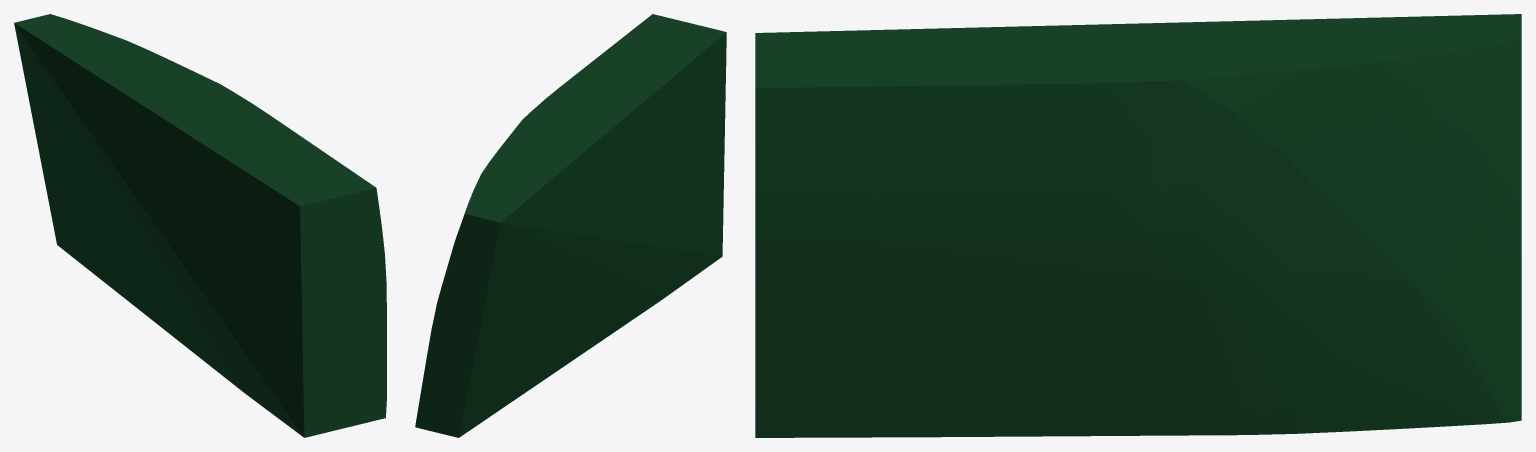
The model's file is right-shoulder-pitch-0_part_160.obj.
3 renders of one model, left to right at view 1: azimuth 30°, elevation 25°; view 2: azimuth 150°, elevation 25°; view 3: azimuth 270°, elevation 25°, orthographic. The views are drawn at different scales.
Bounding box in the file's own units: 0.00771 × 0.0151 × 0.0306.
